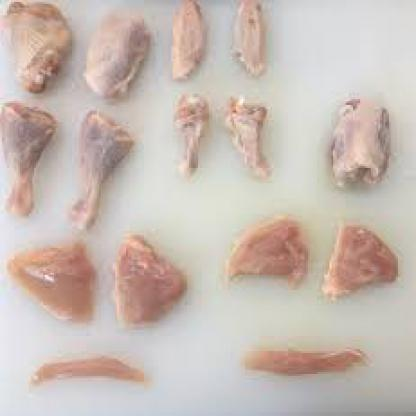chicken: (7, 237, 99, 332), (110, 235, 187, 336), (223, 216, 308, 303), (320, 218, 402, 306), (209, 86, 288, 177), (232, 340, 393, 384), (331, 96, 398, 200), (70, 109, 128, 225), (83, 0, 153, 94), (20, 353, 173, 395), (162, 86, 227, 179), (2, 97, 52, 214), (4, 5, 70, 90), (228, 8, 282, 76), (164, 2, 209, 82)
